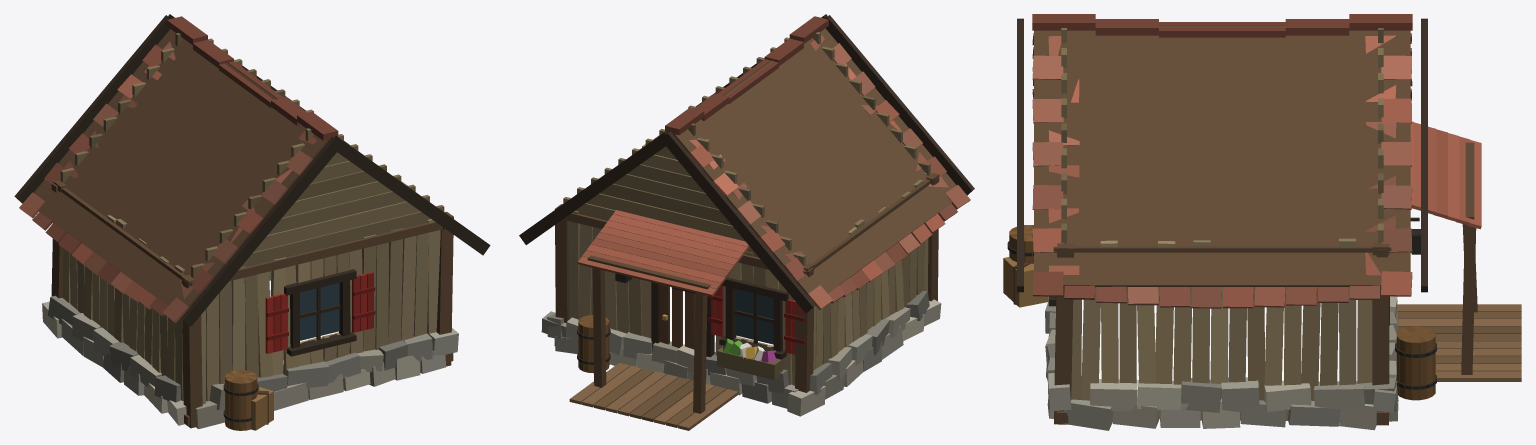
The model's file is cabana_1.glb.
3 renders of one model, left to right at view 1: azimuth 30°, elevation 25°; view 2: azimuth 150°, elevation 25°; view 3: azimuth 270°, elevation 25°, orthographic. The views are drawn at different scales.
Parts seen in each view (by area): view 1: Madeira, Pedra, Telhado, Vidro; view 2: Madeira, Telhado, Pedra, Vidro; view 3: Madeira, Telhado, Pedra, Ferro.
Boxes of the visible parts, x1,y1,x2,y2 form: Madeira: (14,14,490,430); Pedra: (42,271,458,429); Telhado: (19,16,338,323); Vidro: (300,283,339,340); Madeira: (519,14,974,430); Telhado: (577,16,970,309); Pedra: (541,290,941,416); Vidro: (735,289,773,344); Madeira: (1003,18,1521,425); Telhado: (1032,14,1481,308); Pedra: (1045,296,1398,430); Ferro: (1007,217,1436,389).
Size of the model in its own units: 6.23 by 5.2 by 7.36.
